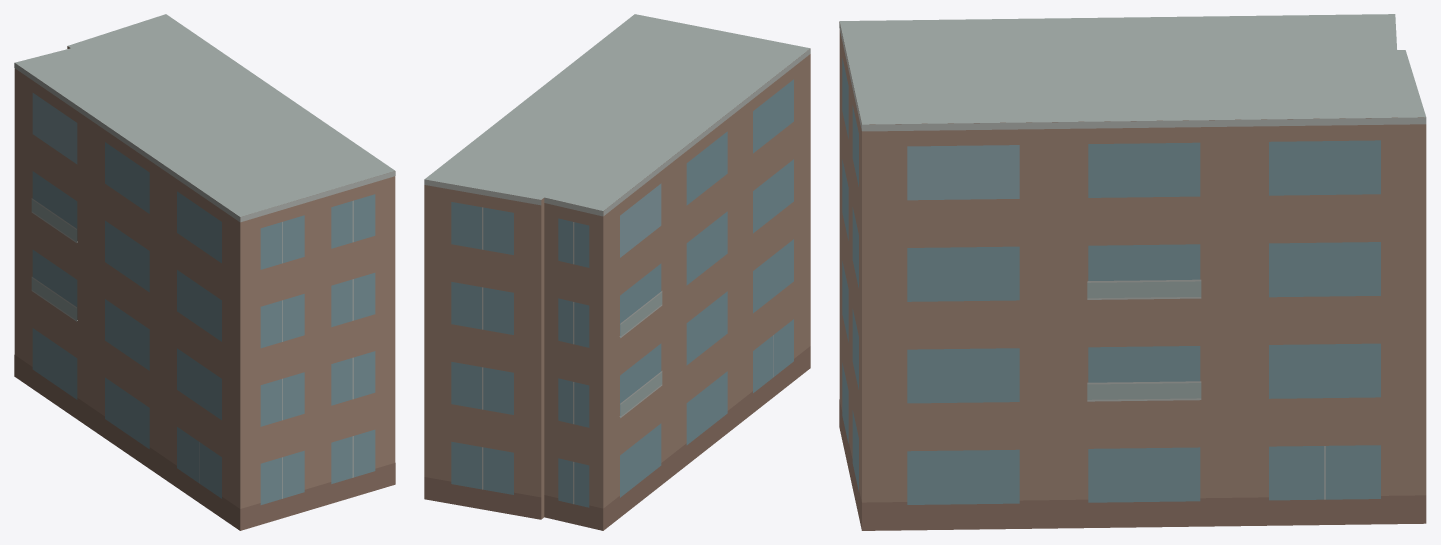
Rendered from survey-upis-32602618.glb.
The picture shows the model from 3 angles, left to right: view 1: azimuth 30°, elevation 25°; view 2: azimuth 150°, elevation 25°; view 3: azimuth 270°, elevation 25°; orthographic projection. The views are drawn at different scales.
Parts seen in each view (by area): view 1: survey-upis-32602618.tmp; view 2: survey-upis-32602618.tmp; view 3: survey-upis-32602618.tmp.
Boxes of the visible parts, x1=… form: survey-upis-32602618.tmp: x1=14, y1=14, x2=395, y2=530; survey-upis-32602618.tmp: x1=424, y1=14, x2=810, y2=530; survey-upis-32602618.tmp: x1=839, y1=14, x2=1426, y2=530.
Bounding box in the file's own units: 8.35 × 14.3 × 18.73.
